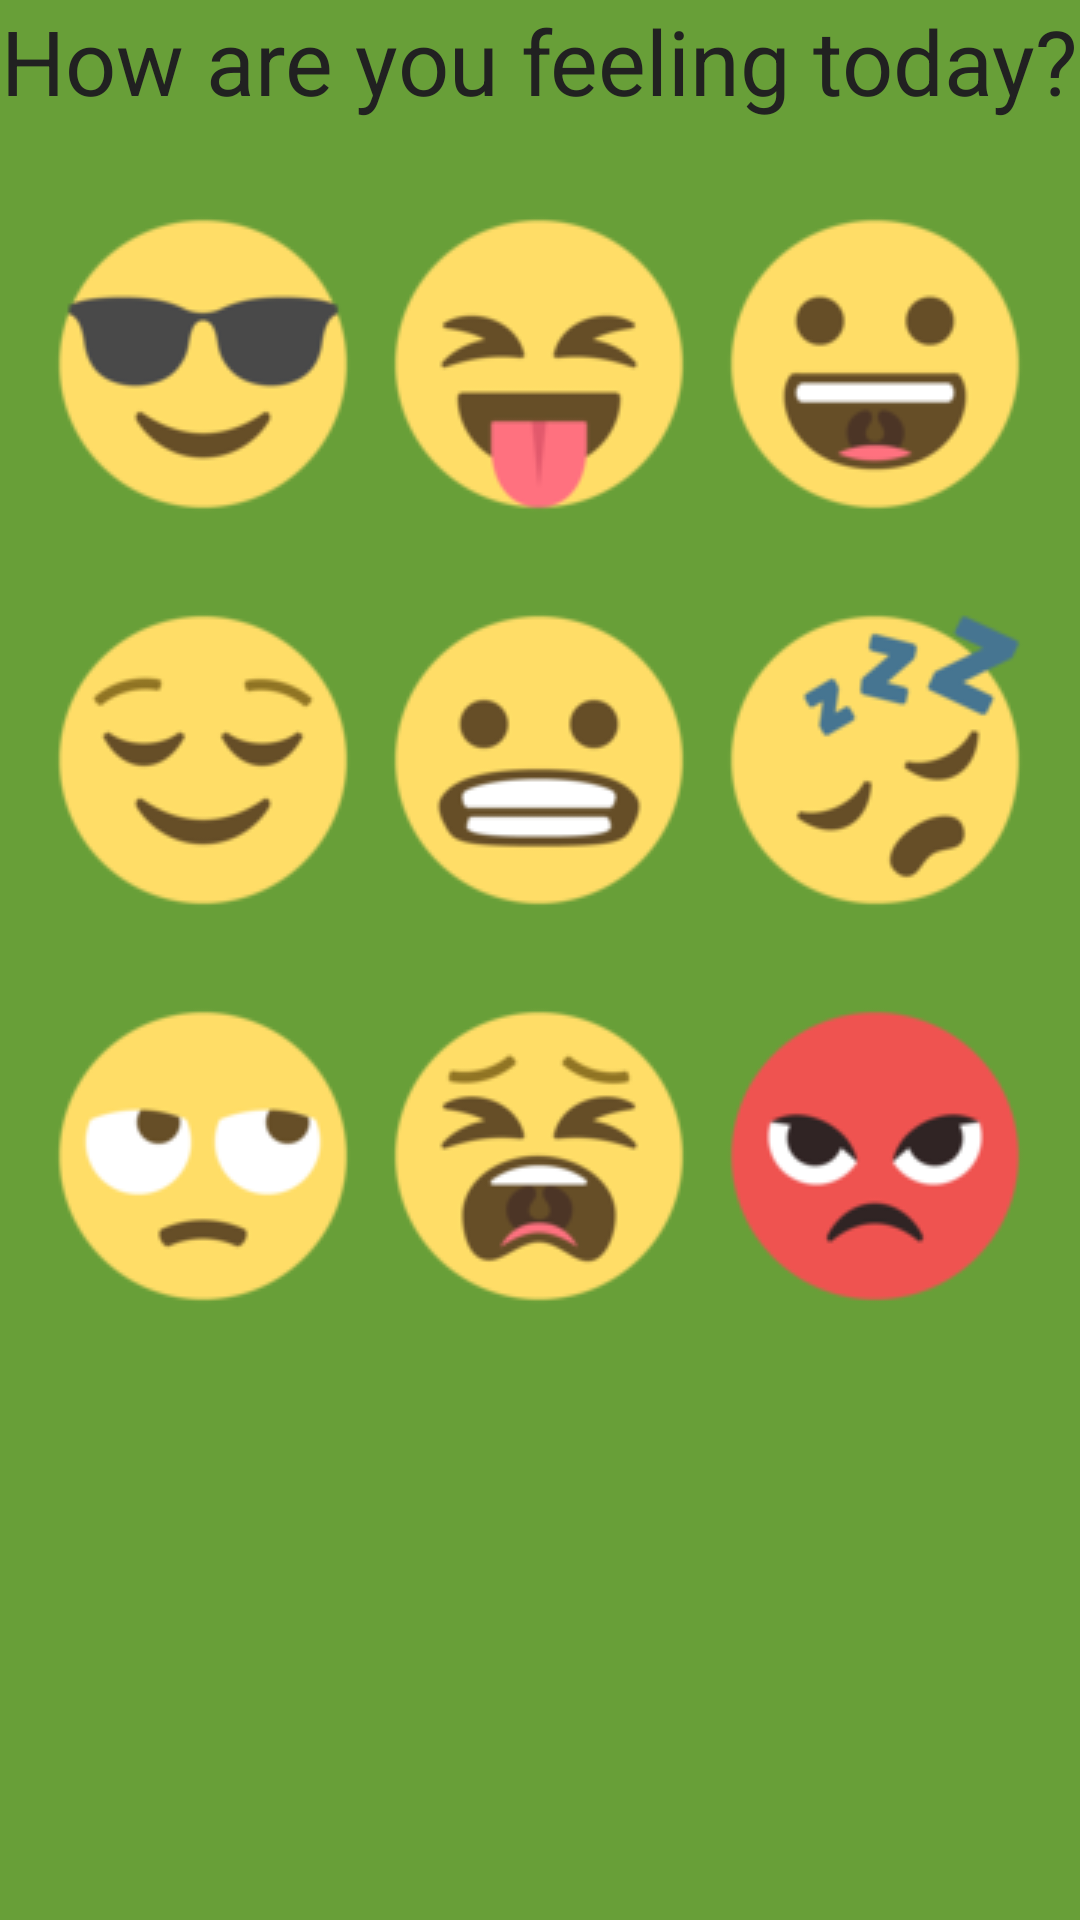

Point at icon controls on the screen. Image size 1080 × 1920, points as (x,y).
angry: (875,1156)
annoyed: (203,1156)
cheeky: (539,364)
cool: (203,364)
disaster: (539,1156)
mellow: (203,760)
tired: (875,760)
